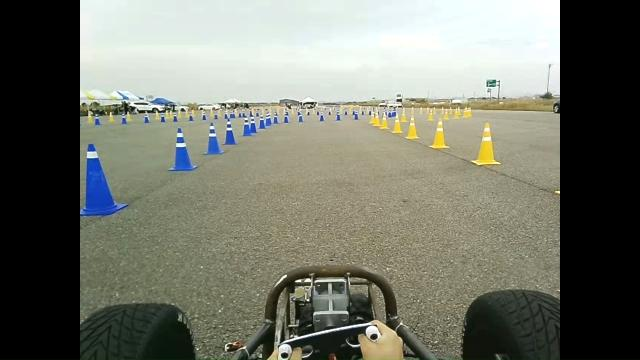blue cone: (78, 129, 132, 221), (170, 122, 201, 178), (202, 118, 227, 159), (220, 111, 238, 146)
yellow cone: (471, 122, 501, 165), (428, 118, 449, 149), (405, 115, 419, 139), (392, 115, 404, 134), (379, 115, 389, 130), (369, 112, 376, 124)
